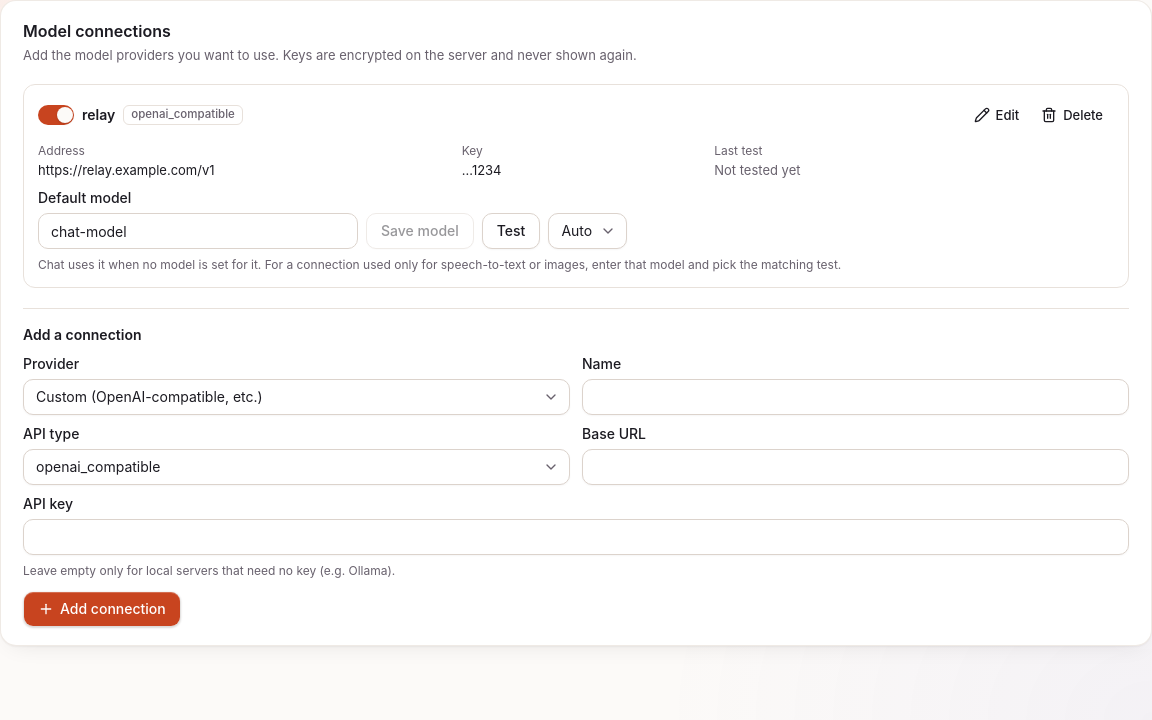
Test: ConnectionsSection › switches a connection off, keeping it and its settings, and back on
Click the switch named "Use relay".
click(56, 115)  # box [38,105,74,125]
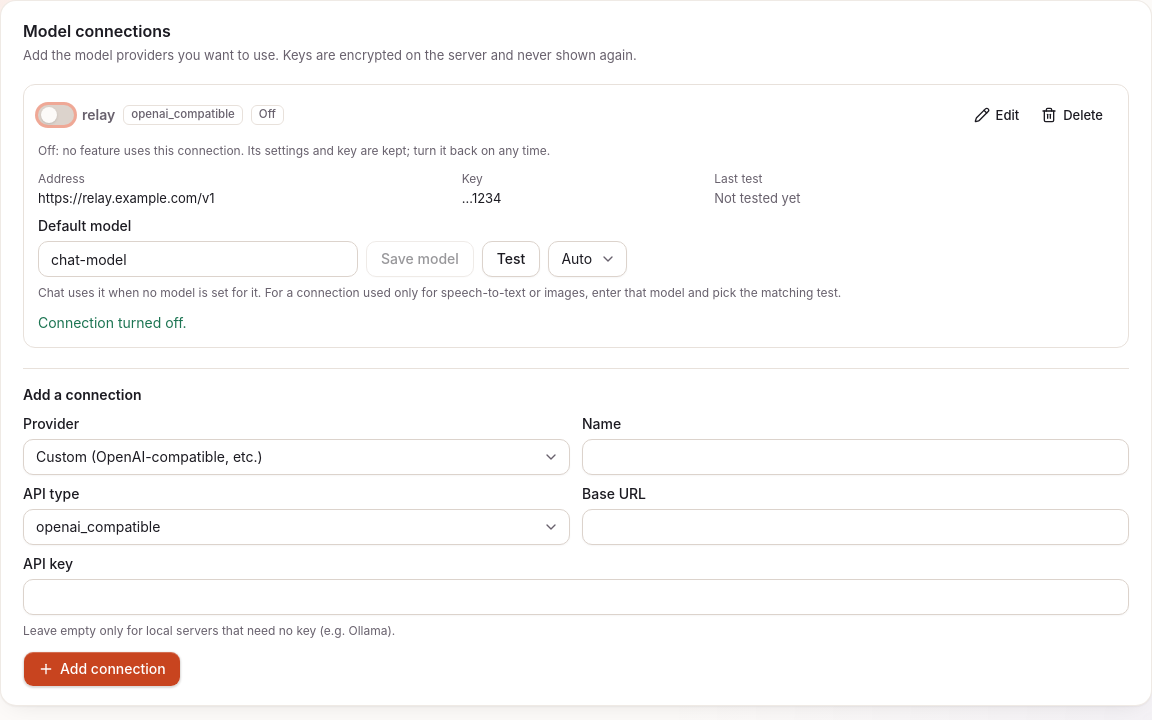
Expected: the switch named "Use relay" is not checked
Expected: the list item with test id "connection-relay" shows "Off: no feature uses this connection", [38,143,550,158]
Expected: the list item with test id "connection-relay" shows "Connection turned off.", [38,314,187,331]
Click the switch named "Use relay".
click(56, 115)  # box [38,105,74,125]
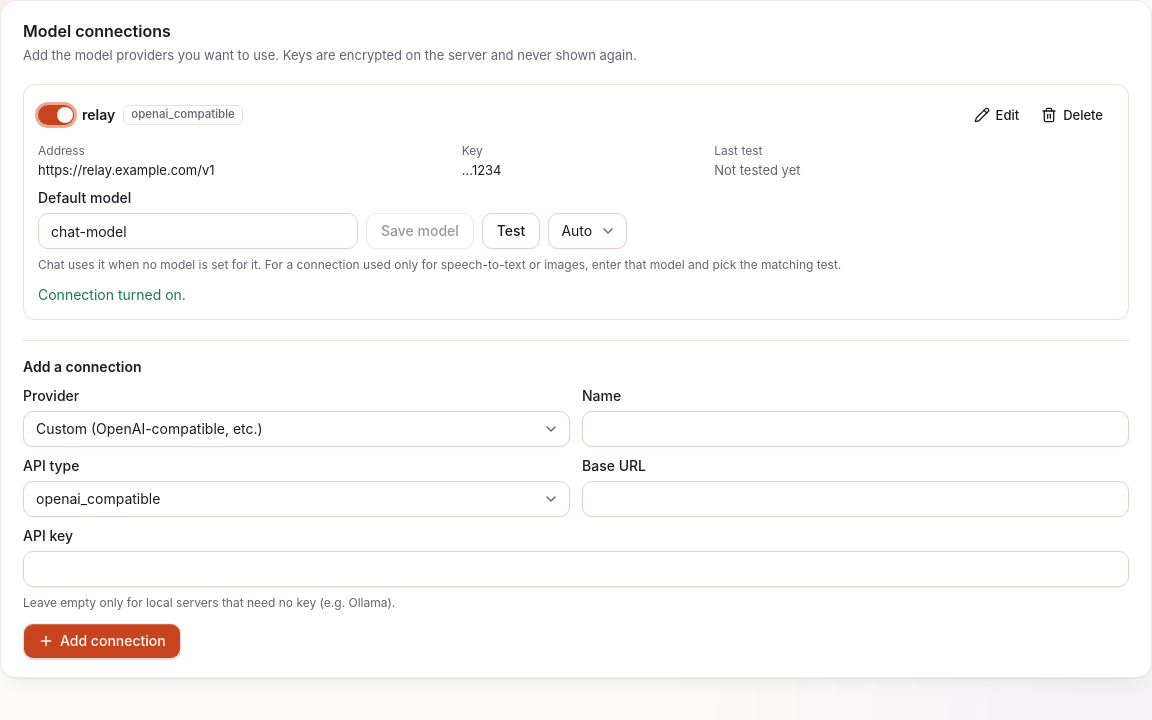
Expected: the list item with test id "connection-relay" no longer shows "Off: no feature uses this connection", [23,84,1129,320]
Expected: the list item with test id "connection-relay" shows "Connection turned on.", [38,286,186,303]
